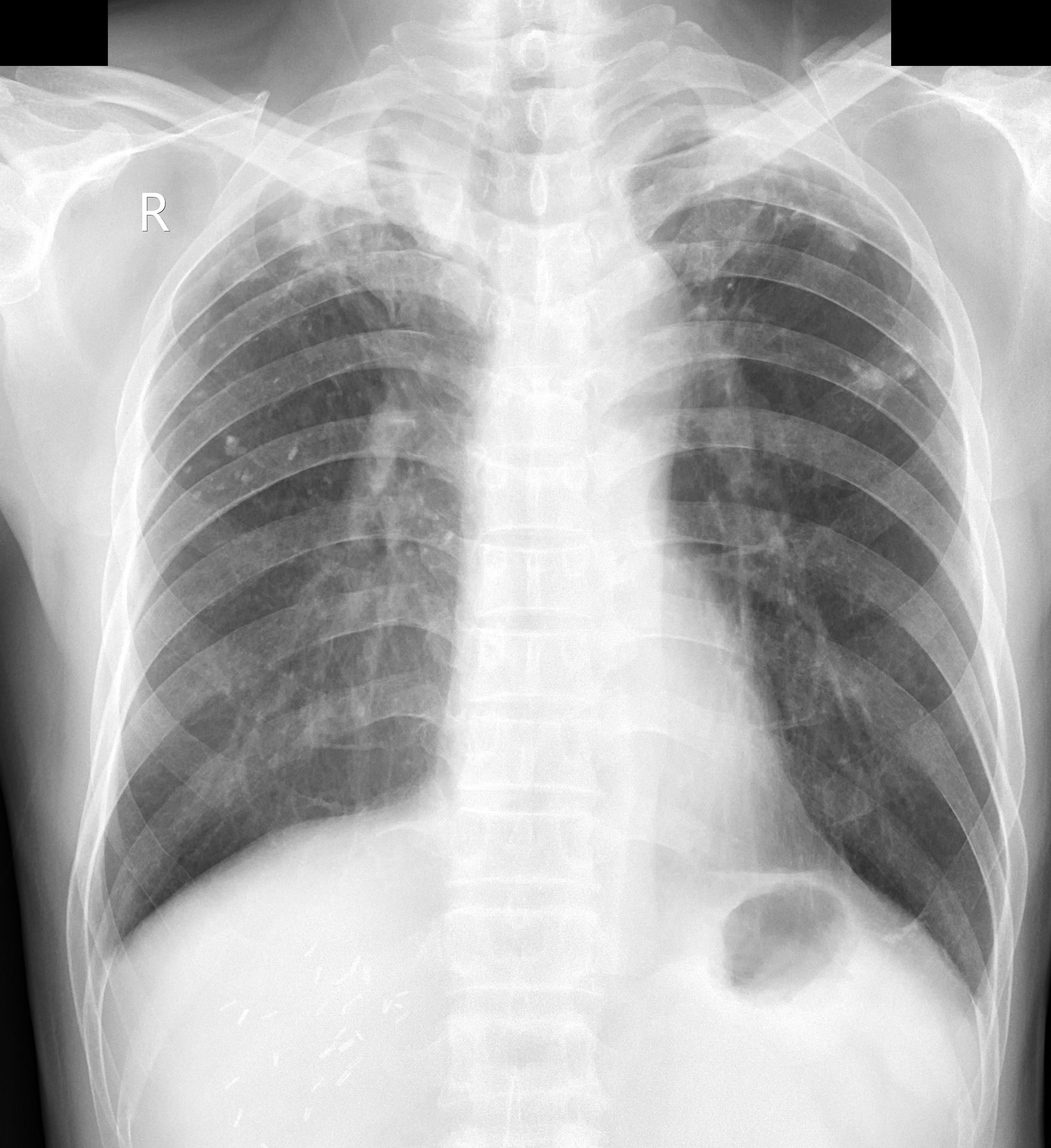Aortic enlargement: (531, 239, 684, 406)
Pleural thickening: (595, 72, 850, 170)
Pulmonary fibrosis: (185, 75, 492, 433), (699, 159, 886, 326), (830, 336, 920, 410)
